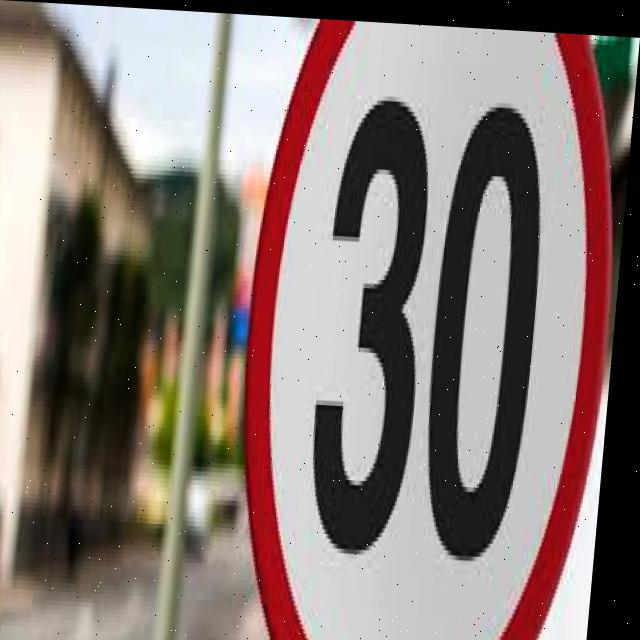Speed limit 30: (230, 14, 636, 640)
